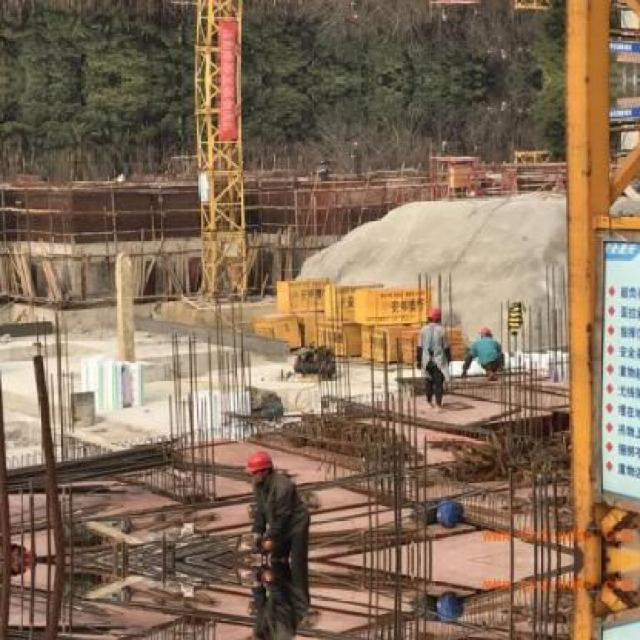helmet: (245, 449, 274, 470), (425, 310, 440, 322)
